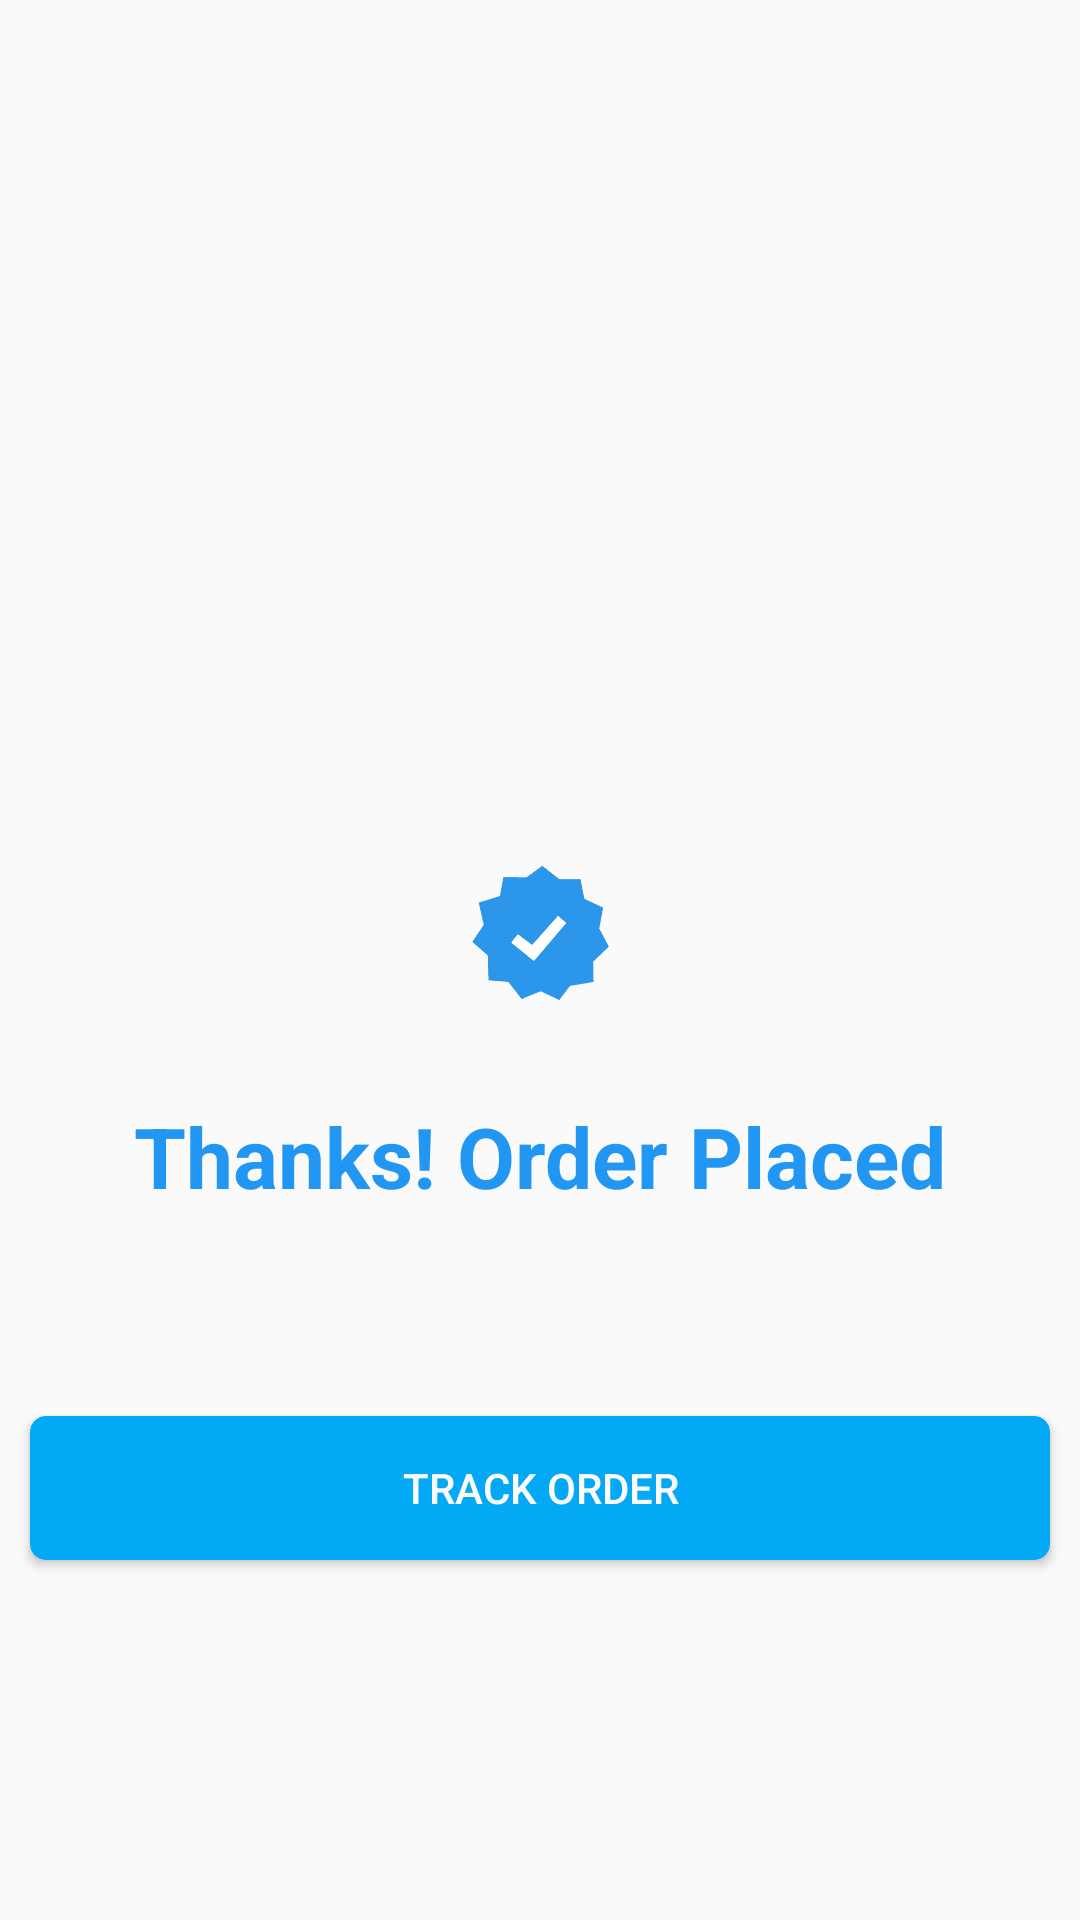

Icon click points for this 1080px x 1920px phone screenshot, format [x,y]:
verify: [540,933]
